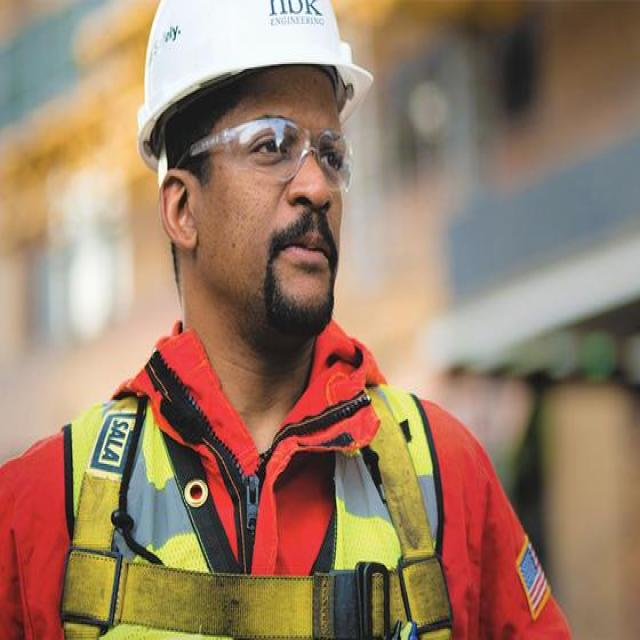goggles: (191, 122, 362, 189)
helmet: (134, 0, 374, 175)
